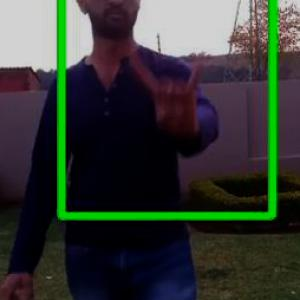takeoff-hand: (124, 43, 215, 150)
